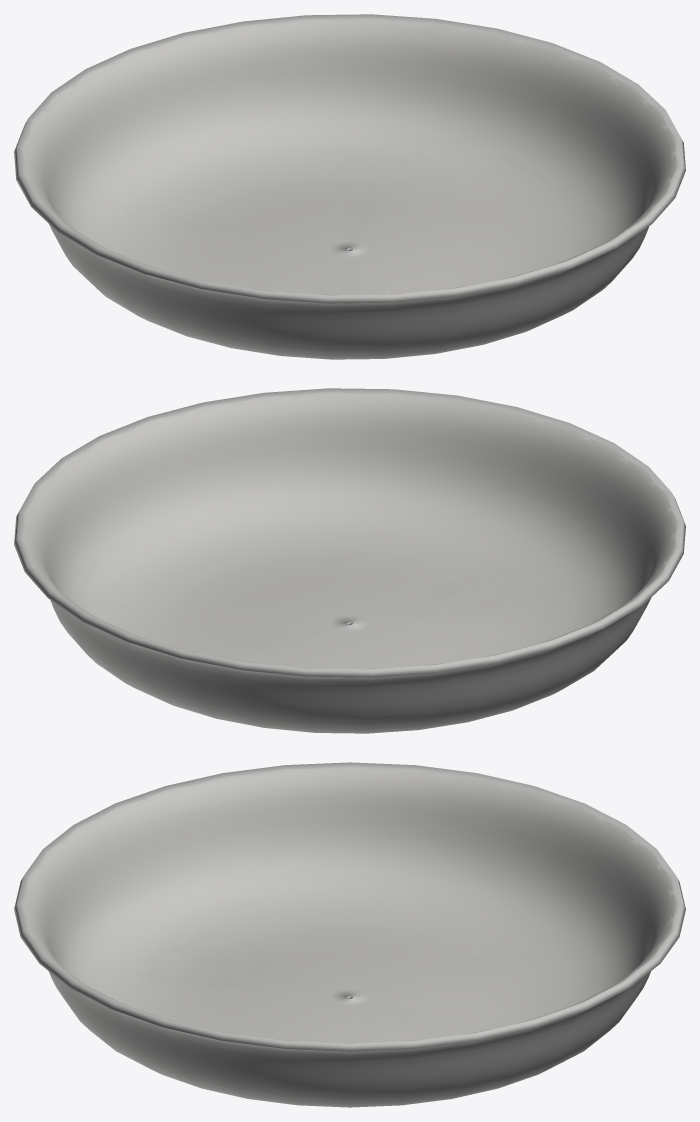
3 renders of one model, top to bottom at view 1: azimuth 30°, elevation 25°; view 2: azimuth 150°, elevation 25°; view 3: azimuth 270°, elevation 25°, orthographic.
Parts seen in each view (by area): view 1: BowlK1; view 2: BowlK1; view 3: BowlK1.
Boxes of the visible parts, left/top/right/bottom form: BowlK1: left=14, top=14, right=685, bottom=359; BowlK1: left=14, top=388, right=685, bottom=733; BowlK1: left=14, top=762, right=685, bottom=1107.
Size of the model in its own units: 5.87 by 1.04 by 5.87.
